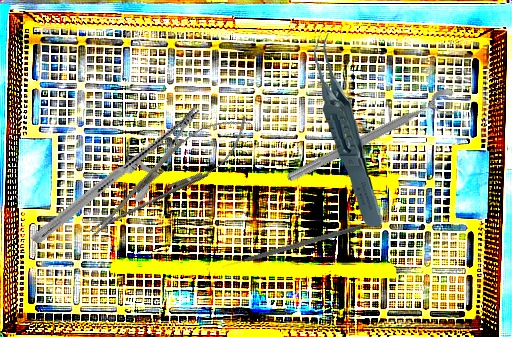Fixation Ring: (283, 85, 464, 196)
Hook Surgical: (220, 223, 363, 270)
Needle Holder: (29, 68, 203, 282), (75, 100, 262, 253)
Tissue Forceps: (312, 30, 385, 229)
